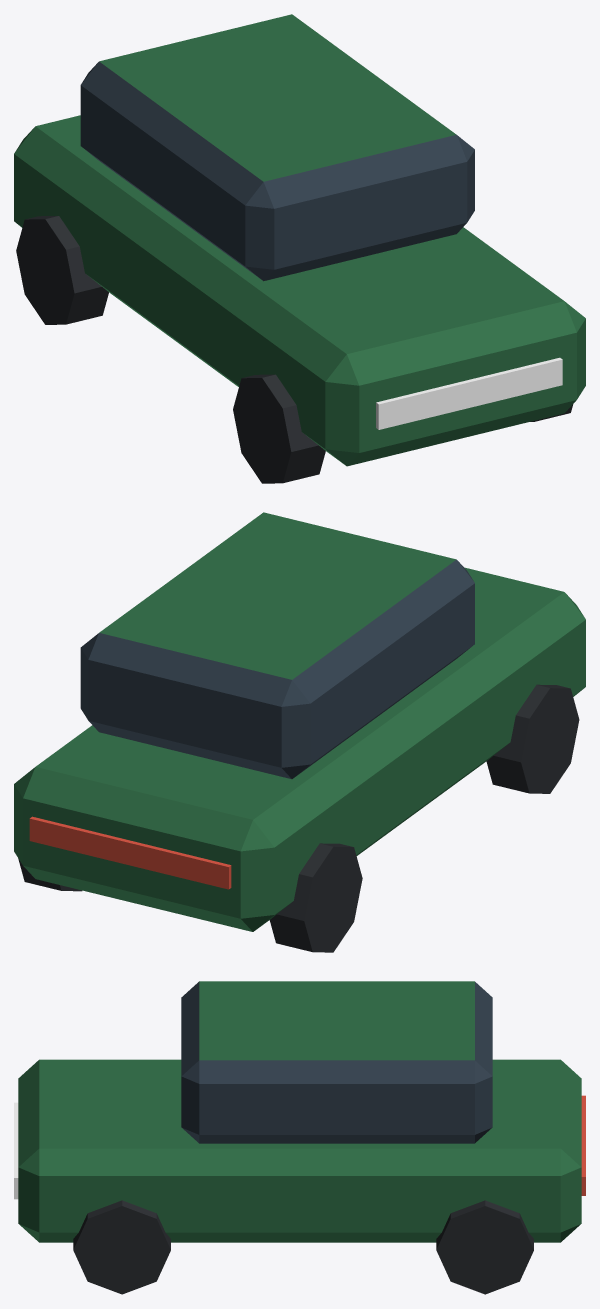
Rendered from car_b.fbx.
The picture shows the model from 3 angles, top to bottom: view 1: azimuth 30°, elevation 25°; view 2: azimuth 150°, elevation 25°; view 3: azimuth 270°, elevation 25°; orthographic projection. The views are drawn at different scales.
Parts seen in each view (by area): view 1: car_b; view 2: car_b; view 3: car_b.
Part boxes in pixels (x1,y1,x2,y2): car_b: [14, 14, 585, 483]; car_b: [14, 512, 585, 952]; car_b: [14, 981, 585, 1294].
Size of the model in its own units: 1.88 by 1.6 by 3.86.
